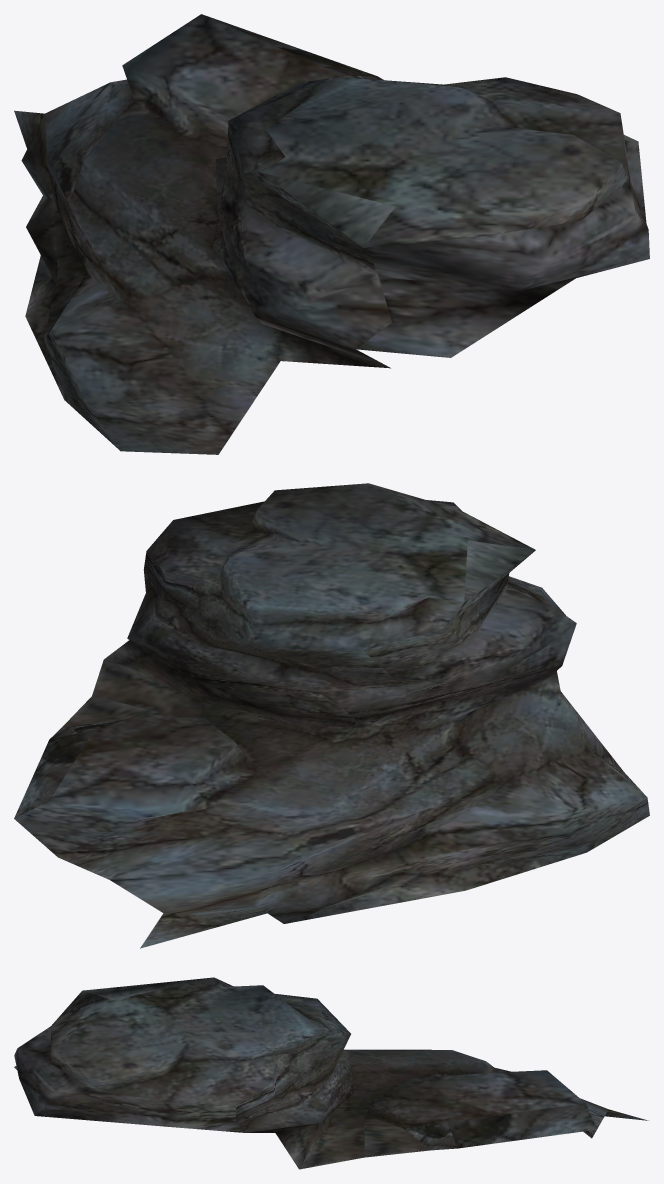
The model's file is S_Rock_Yellow034_H21.FBX.
3 views of the same model, one above another, from view 1: azimuth 30°, elevation 25°; view 2: azimuth 150°, elevation 25°; view 3: azimuth 270°, elevation 25° (orthographic). The views are drawn at different scales.
Visible parts, largest first — view 1: S_Rock_Yellow034_H21; view 2: S_Rock_Yellow034_H21; view 3: S_Rock_Yellow034_H21.
Boxes of the visible parts, bbox=[...] form: S_Rock_Yellow034_H21: bbox=[14, 14, 649, 454]; S_Rock_Yellow034_H21: bbox=[14, 483, 649, 948]; S_Rock_Yellow034_H21: bbox=[14, 977, 648, 1169].
Bounding box in the file's own units: 888 × 1255 × 352.
1 material, 1 textured.
